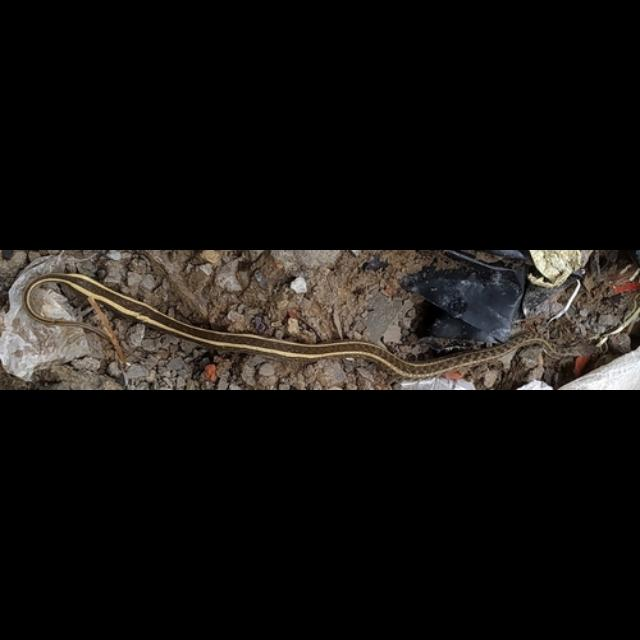snake: (25, 270, 609, 372)
